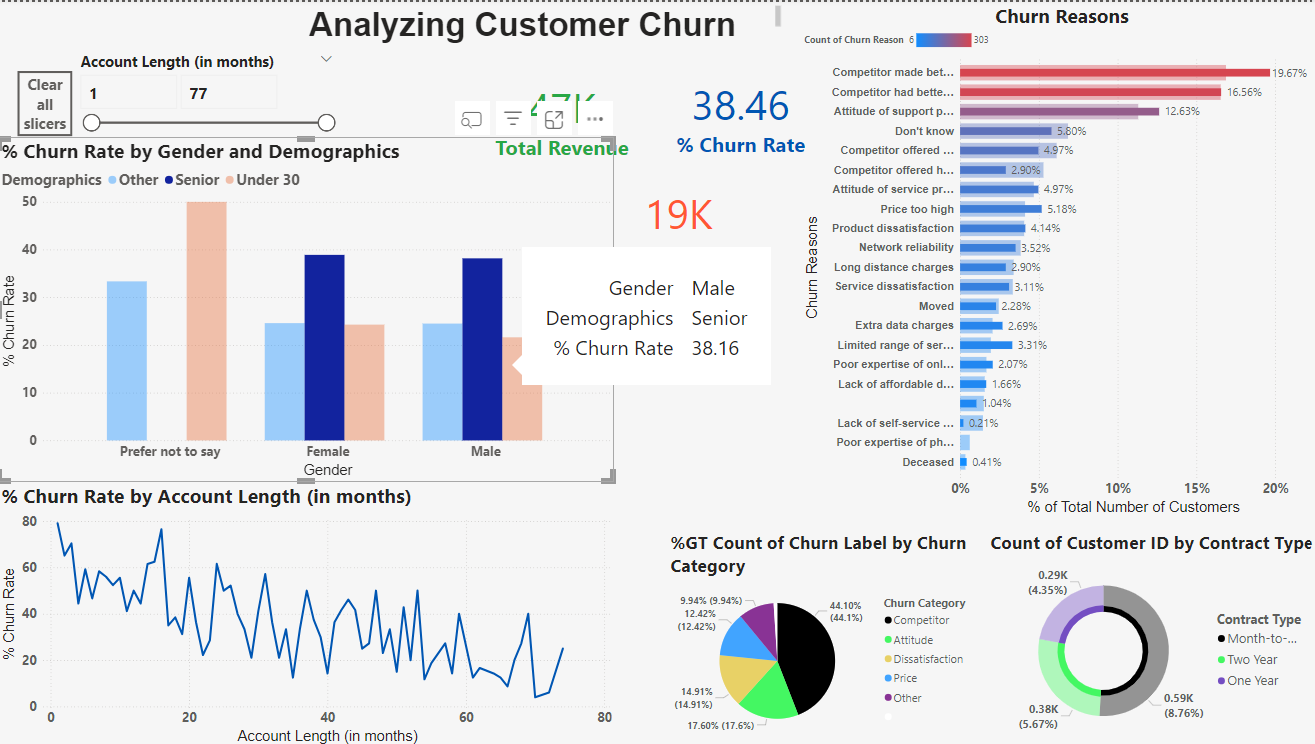

The dashboard page shown, as its layout file describes it:
{"tool":"powerbi","page":{"name":"Churn Analysis","canvas":[1920,1080],"ordinal":0},"visuals":[{"type":"card","fields":{"Values":["#Measures.Total Revenue"]},"box":[698.2,104.4,238.5,126.7],"z":0},{"type":"card","fields":{"Values":["#Measures.% Churn Rate"]},"box":[954.1,99.4,243.5,126.7],"z":1000},{"type":"card","fields":{"Values":["#Measures.Revenue Loss"]},"box":[852.3,253.4,268.3,136.7],"z":2000},{"type":"lineChart","fields":{"Y":["#Measures.% Churn Rate"],"Category":["Databel - Data.Account Length (in months)"]},"box":[0,695.7,894.5,385.1],"z":3000},{"type":"clusteredColumnChart","fields":{"Category":["Databel - Data.Gender"],"Y":["#Measures.% Churn Rate"],"Series":["Databel - Data.Demographics"]},"box":[0,196.3,894.5,499.4],"z":4000},{"type":"clusteredBarChart","title":"Churn Reasons","fields":{"Category":["Databel - Data.Churn Reason"],"Y":["CountNonNull(Databel - Data.Number of Customers in Group)"]},"box":[1162.8,0,757.8,747.9],"z":5000},{"type":"donutChart","fields":{"Y":["Count(Databel - Data.Customer ID)"],"Category":["Databel - Data.Contract Type"]},"box":[1433.7,765.3,479.6,315.6],"z":6000},{"type":"slicer","fields":{"Values":["Databel - Data.Account Length (in months)"]},"box":[106.8,64.6,390.1,196.3],"z":7000},{"type":"textbox","box":[390.1,0,750.4,67.1],"z":8000},{"type":"pieChart","fields":{"Category":["Databel - Data.Churn Category"],"Y":["CountNonNull(Databel - Data.Churn Label)"]},"box":[969.1,765,454.1,310.9],"z":9000},{"type":"actionButton","box":[27.3,99.4,79.5,94.4],"z":11000}]}

Visuals, with their boxes in screenshot pixels (x1, y1, x2, y2), scaled from the page's 1920x1080 canvas onto the 1315x744 screenshot:
card - #Measures.Total Revenue: (left=478, top=72, right=642, bottom=159)
card - #Measures.% Churn Rate: (left=653, top=68, right=820, bottom=156)
card - #Measures.Revenue Loss: (left=584, top=175, right=767, bottom=269)
lineChart - #Measures.% Churn Rate x Databel - Data.Account Length (in months): (left=0, top=479, right=613, bottom=743)
clusteredColumnChart - Databel - Data.Gender x #Measures.% Churn Rate: (left=0, top=135, right=613, bottom=479)
"Churn Reasons" clusteredBarChart: (left=796, top=0, right=1314, bottom=515)
donutChart - Count(Databel - Data.Customer ID) x Databel - Data.Contract Type: (left=982, top=527, right=1310, bottom=743)
slicer - Databel - Data.Account Length (in months): (left=73, top=45, right=340, bottom=180)
textbox: (left=267, top=0, right=781, bottom=46)
pieChart - Databel - Data.Churn Category x CountNonNull(Databel - Data.Churn Label): (left=664, top=527, right=975, bottom=741)
actionButton: (left=19, top=68, right=73, bottom=134)
